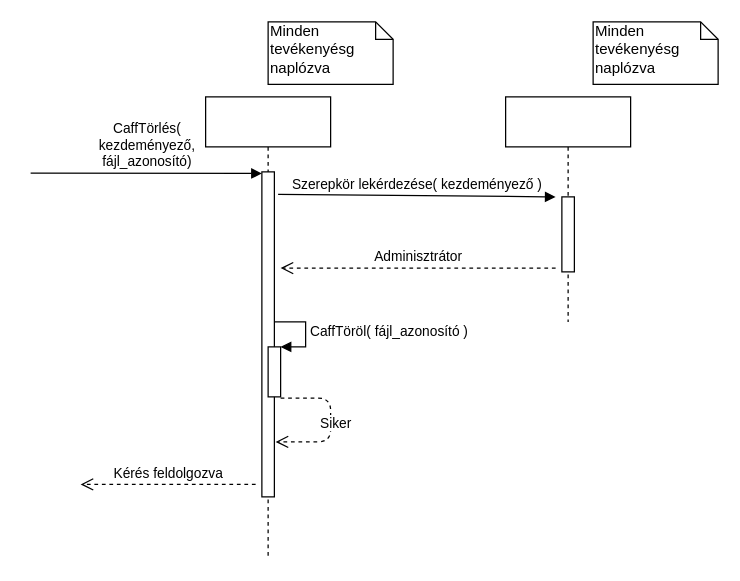
Image size: 740x581. Some labels were removed from this diagram. The shapes that lost their labels are listed below. From the top down, each one's box as (x1, y1, x2, y2) in pixels, then its label:
(504, 96, 631, 322): f: Felhasználói Adatkezelő
(204, 96, 331, 559): c: CAFF Fájl Kezelő
